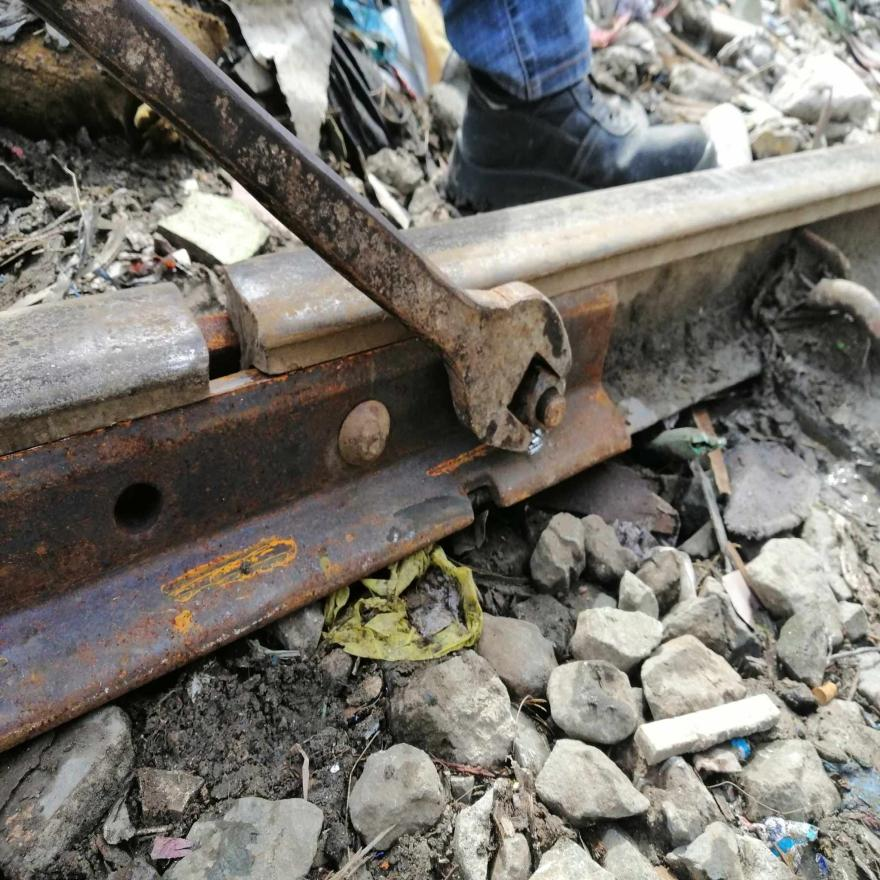railway-gap: (134, 238, 300, 430)
